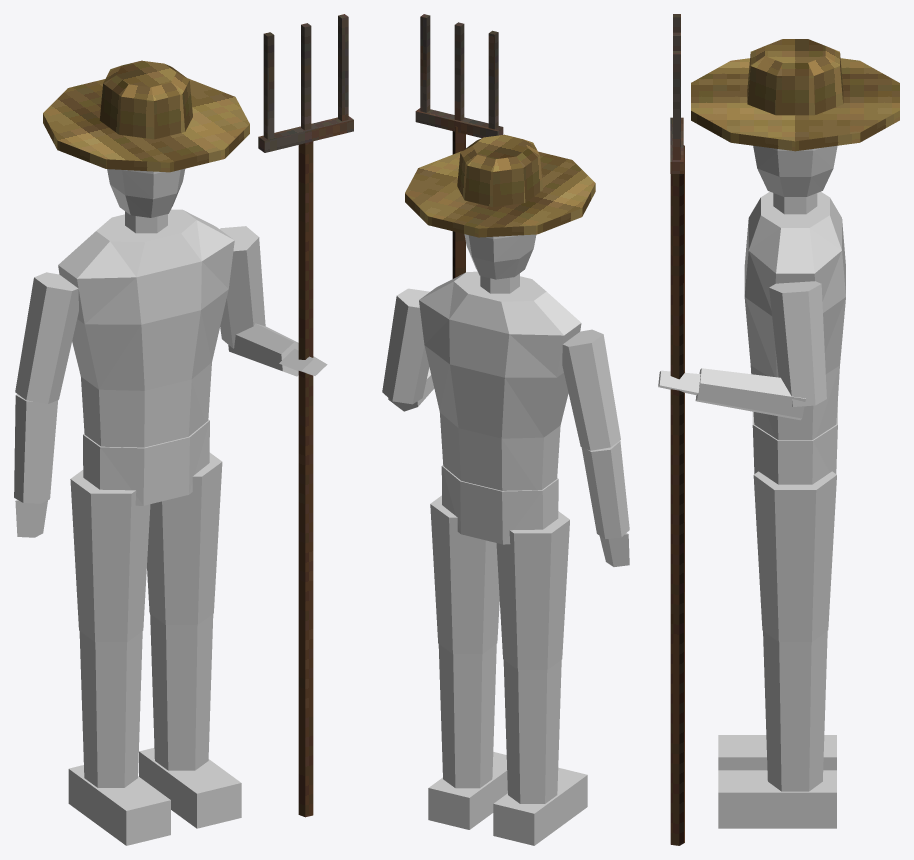
File: granjero.obj
3 views of the same model, side by side, from view 1: azimuth 30°, elevation 25°; view 2: azimuth 150°, elevation 25°; view 3: azimuth 270°, elevation 25° (orthographic). The views are drawn at different scales.
Parts seen in each view (by area): view 1: granjero; view 2: granjero; view 3: granjero.
Boxes of the visible parts, x1,y1,x2,y2 form: granjero: (14,14,353,845); granjero: (382,14,629,845); granjero: (658,14,899,845).
Bounding box in the file's own units: 0.759 × 2.05 × 0.55.
4 materials, 3 textured.
